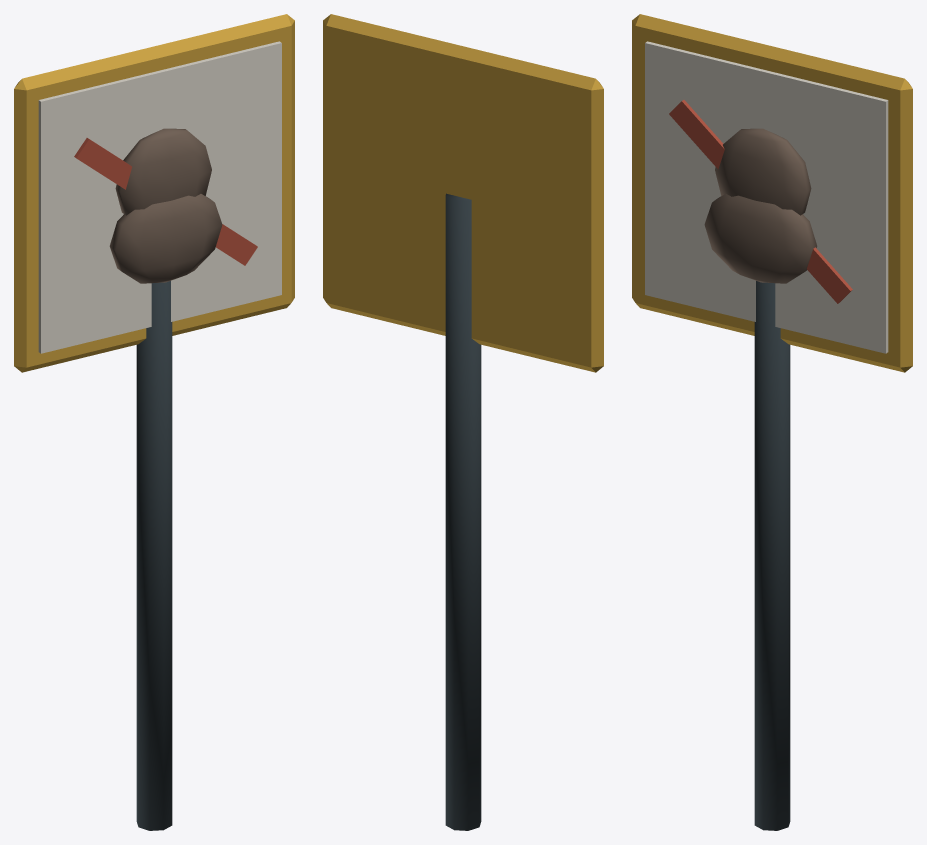
File: monkey_sign.glb
3 renders of one model, left to right at view 1: azimuth 30°, elevation 25°; view 2: azimuth 150°, elevation 25°; view 3: azimuth 330°, elevation 25°, orthographic.
Parts seen in each view (by area): view 1: monkey_sign; view 2: monkey_sign; view 3: monkey_sign.
Part boxes in pixels (x1,y1,x2,y2): monkey_sign: [14, 14, 294, 830]; monkey_sign: [323, 14, 603, 830]; monkey_sign: [632, 14, 912, 830].
Size of the model in its own units: 0.6999 by 1.85 by 0.1319.
